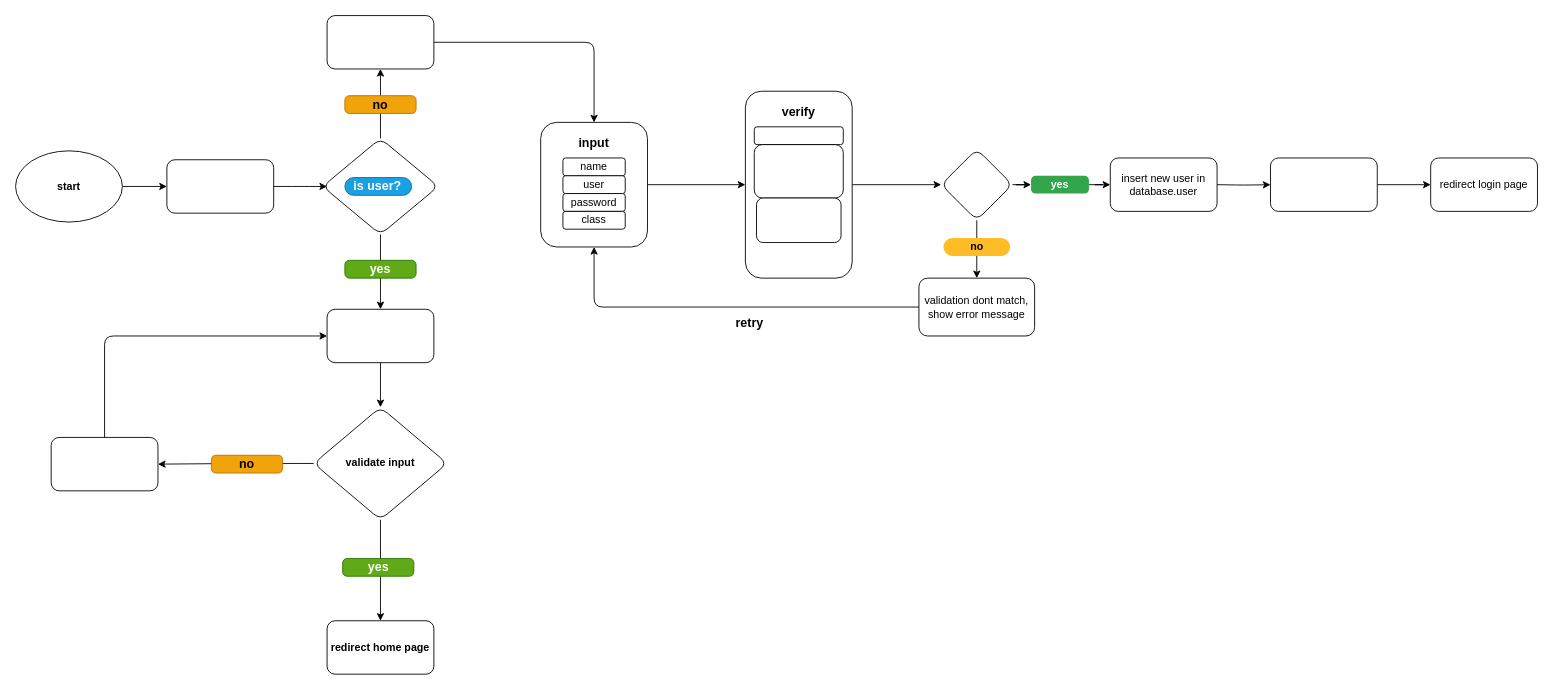
The diagram is 1553 pixels wide and 690 high, and some of its shapes have lost their labels. The centre of each missing label's shape, as x and y in pixels:
"class : enum->classes" goes at point (798, 220).
"create account" goes at point (380, 42).
"is user unique?" goes at point (798, 135).
"login" goes at point (380, 335).
"login page" goes at point (220, 186).
"password min 10 char, letters and numbers" goes at point (798, 171).
"show username + success message" goes at point (1323, 184).
"validate" goes at point (976, 184).
"wrong user or password" goes at point (104, 464).
